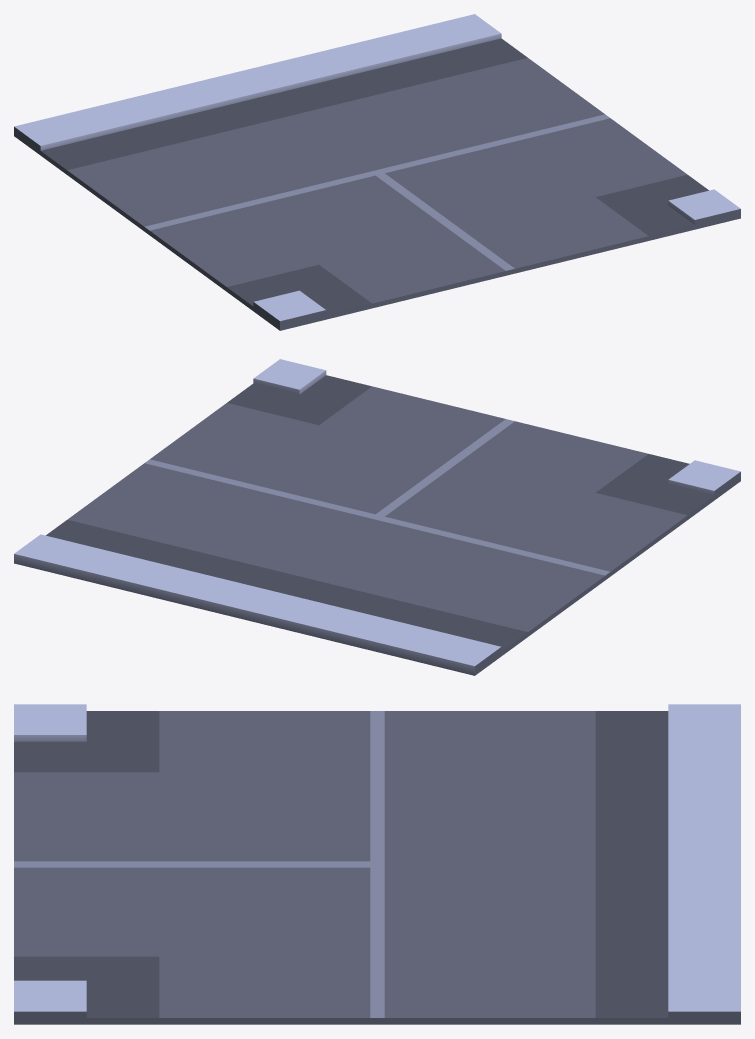
The model's file is road-intersection-line.glb.
3 renders of one model, top to bottom at view 1: azimuth 30°, elevation 25°; view 2: azimuth 150°, elevation 25°; view 3: azimuth 270°, elevation 25°, orthographic. The views are drawn at different scales.
Visible parts, largest first — view 1: road-intersection-line; view 2: road-intersection-line; view 3: road-intersection-line.
Boxes of the visible parts, x1,y1,x2,y2 form: road-intersection-line: [14, 14, 740, 330]; road-intersection-line: [14, 359, 740, 675]; road-intersection-line: [14, 704, 740, 1024].
Size of the model in its own units: 1 by 0.02 by 1.
1 material, 1 textured.
